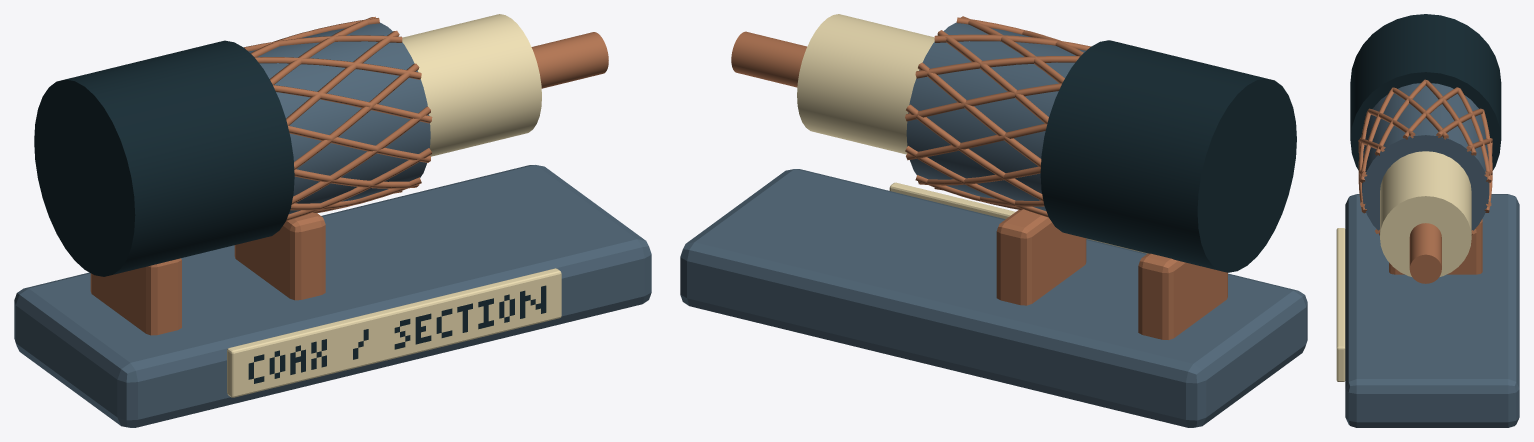
3 renders of one model, left to right at view 1: azimuth 30°, elevation 25°; view 2: azimuth 150°, elevation 25°; view 3: azimuth 270°, elevation 25°, orthographic. The views are drawn at different scales.
Parts seen in each view (by area): view 1: PR086 enamel and hardware; view 2: PR086 enamel and hardware; view 3: PR086 enamel and hardware.
Boxes of the visible parts, left/top/right/bottom form: PR086 enamel and hardware: left=14, top=14, right=651, bottom=427; PR086 enamel and hardware: left=680, top=14, right=1307, bottom=427; PR086 enamel and hardware: left=1336, top=14, right=1519, bottom=427.
Size of the model in its own units: 1.1 by 0.6062 by 0.4392.
